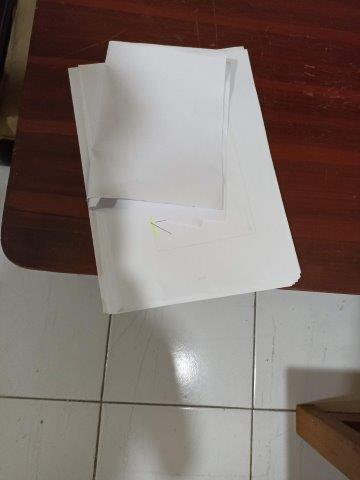kertas: (69, 41, 301, 314)
